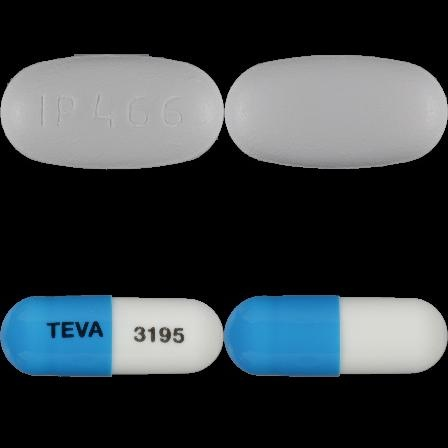33261-062: (0, 0, 224, 224)
